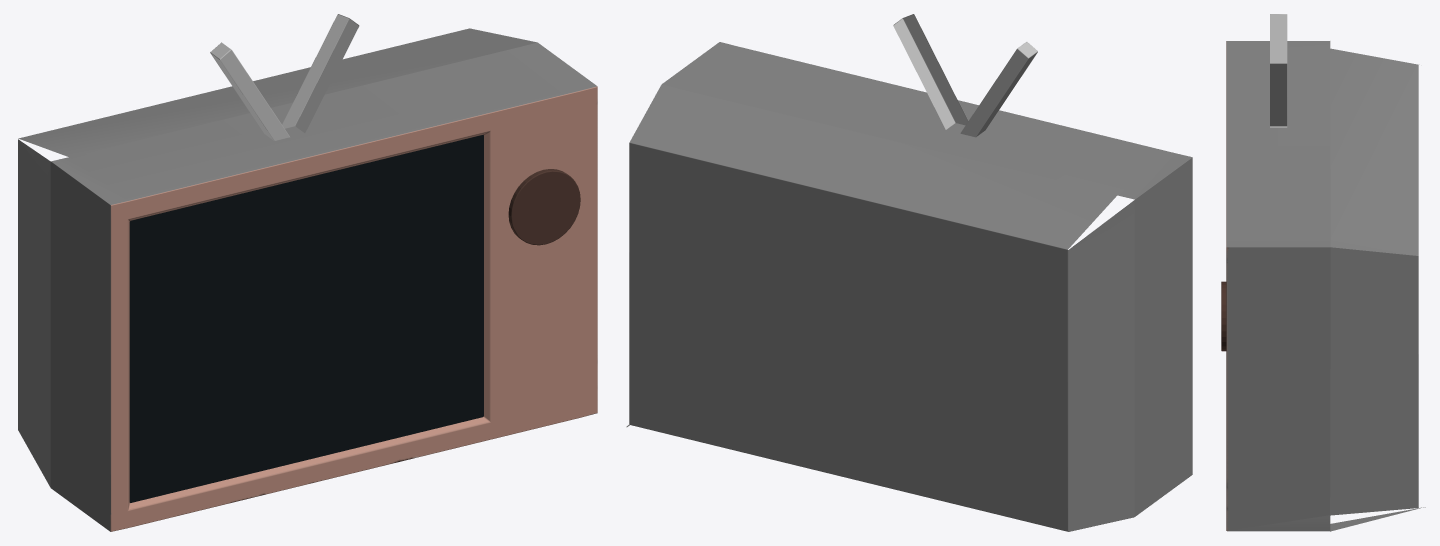
The model's file is SM_TD2_TV_Antenna.gltf.
The picture shows the model from 3 angles, left to right: view 1: azimuth 30°, elevation 25°; view 2: azimuth 150°, elevation 25°; view 3: azimuth 270°, elevation 25°; orthographic projection. The views are drawn at different scales.
Visible parts, largest first — view 1: SM_TD2_TV_Antenna_LookDev02__Body, SM_TD2_TV_Antenna_LookDev02__Screen; view 2: SM_TD2_TV_Antenna_LookDev02__Body; view 3: SM_TD2_TV_Antenna_LookDev02__Body.
Boxes of the visible parts, left/top/right/bottom form: SM_TD2_TV_Antenna_LookDev02__Body: left=18, top=14, right=597, bottom=531; SM_TD2_TV_Antenna_LookDev02__Screen: left=129, top=135, right=483, bottom=502; SM_TD2_TV_Antenna_LookDev02__Body: left=626, top=14, right=1192, bottom=531; SM_TD2_TV_Antenna_LookDev02__Body: left=1221, top=14, right=1425, bottom=531.
Size of the model in its own units: 1.41 by 1.18 by 0.5873.
4 materials, 3 textured.
